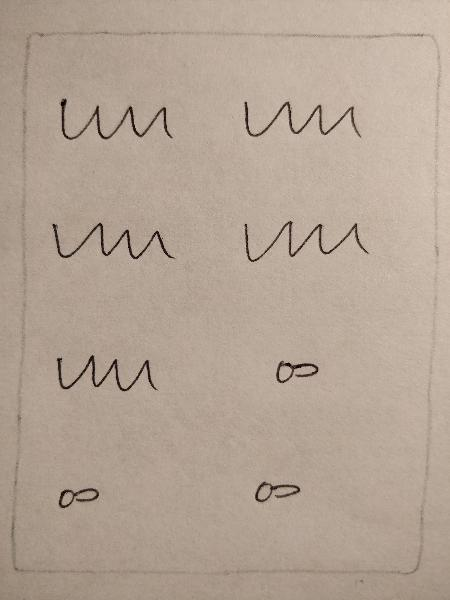switch: (261, 344, 331, 397), (246, 466, 307, 511), (47, 477, 109, 517)
text: (236, 206, 379, 275), (49, 86, 189, 156), (42, 204, 174, 273), (233, 89, 371, 148), (48, 344, 167, 405)
